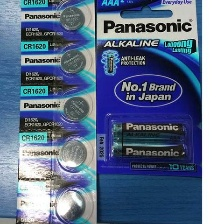battery: (106, 119, 189, 143), (108, 141, 190, 161), (53, 187, 86, 222), (57, 138, 87, 172), (57, 4, 87, 33), (57, 47, 87, 75), (61, 94, 91, 121)
book: (91, 0, 205, 180), (16, 0, 99, 224)
